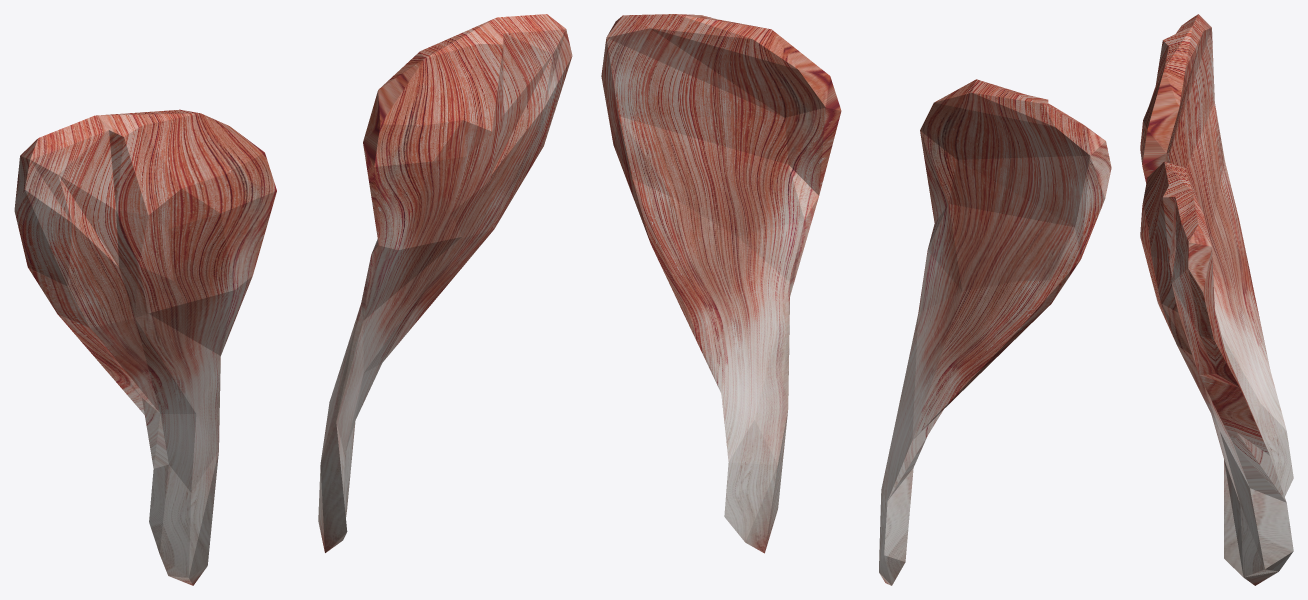
Rendered from Depressor_Supercili.obj.
3 renders of one model, left to right at view 1: azimuth 30°, elevation 25°; view 2: azimuth 150°, elevation 25°; view 3: azimuth 270°, elevation 25°, orthographic. The views are drawn at different scales.
Parts seen in each view (by area): view 1: Musculos_Cabeza_1:Depressor_Supercilii1; view 2: Musculos_Cabeza_1:Depressor_Supercilii1; view 3: Musculos_Cabeza_1:Depressor_Supercilii1.
Boxes of the visible parts, bbox=[...] form: Musculos_Cabeza_1:Depressor_Supercilii1: bbox=[14, 14, 572, 585]; Musculos_Cabeza_1:Depressor_Supercilii1: bbox=[601, 14, 1111, 585]; Musculos_Cabeza_1:Depressor_Supercilii1: bbox=[1140, 14, 1293, 585].
Size of the model in its own units: 0.1637 by 0.1506 by 0.0466.
Materials: 1 (1 with a texture image).
